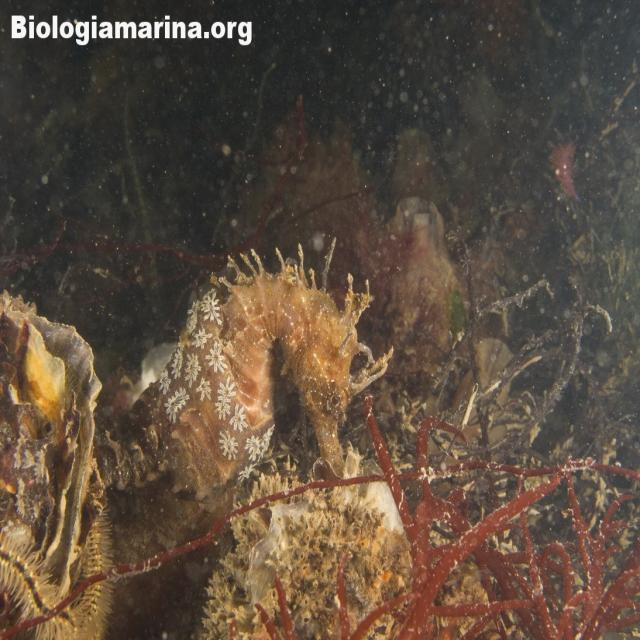Guttu: (281, 275, 367, 486)
